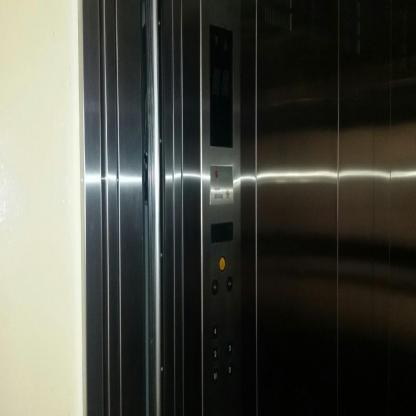0: (225, 359, 234, 378)
2: (211, 343, 219, 361)
3: (226, 339, 233, 355)
4: (211, 324, 219, 340)
B1: (212, 366, 219, 383)
alarm: (218, 256, 226, 271)
close: (225, 274, 233, 292)
led: (207, 19, 233, 150), (209, 219, 234, 244)
open: (210, 278, 219, 296)
